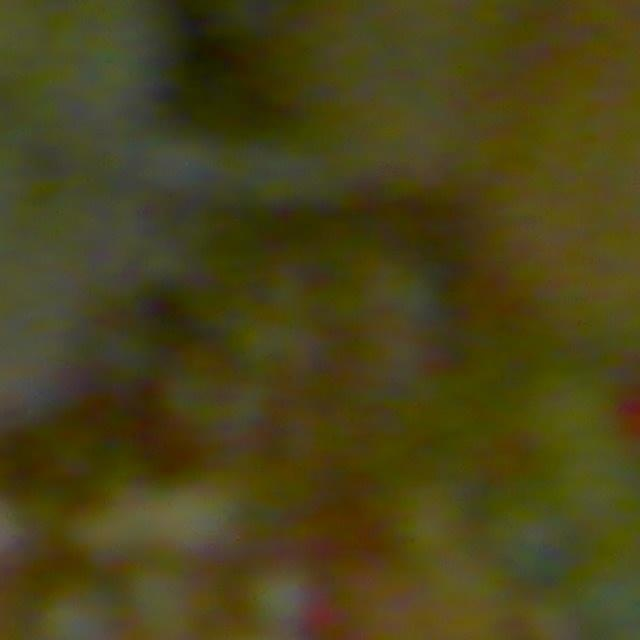SeaGrape: (122, 563, 207, 640), (244, 557, 323, 636), (32, 583, 124, 640)
